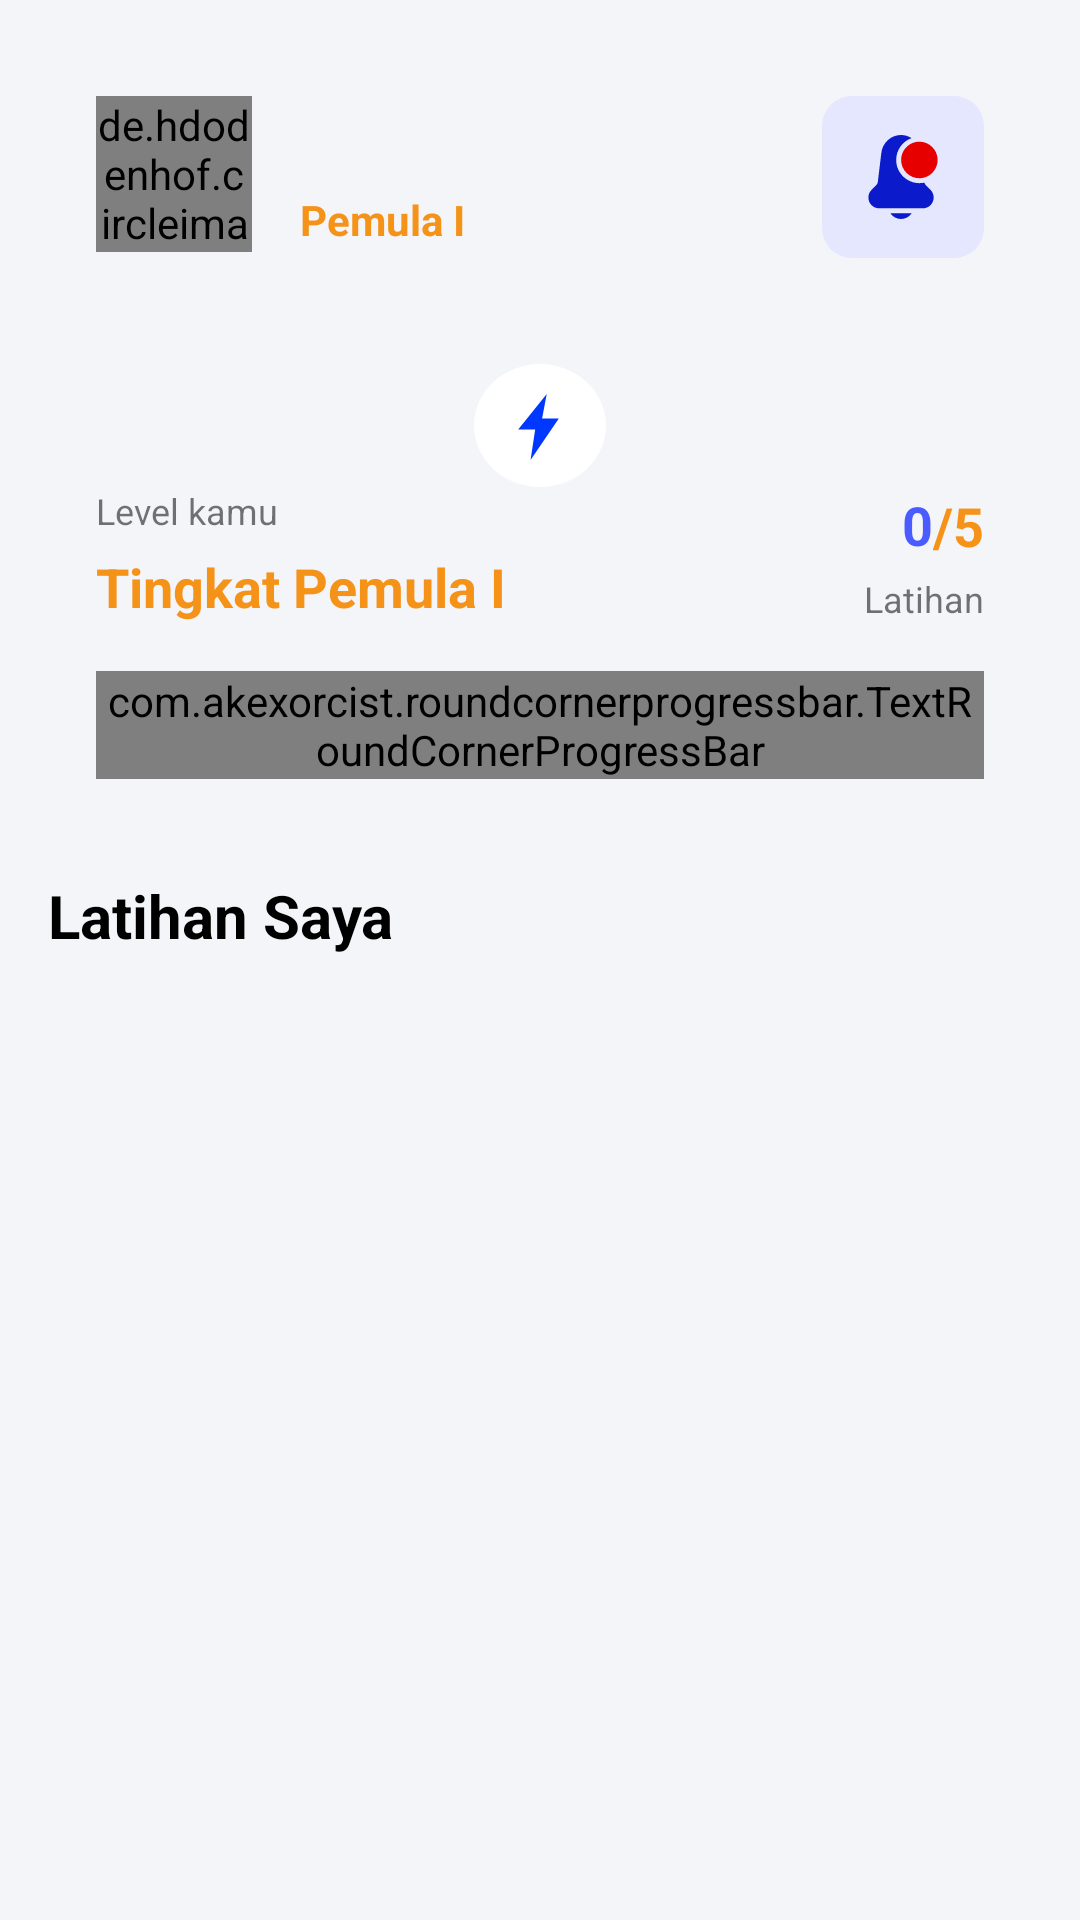

Where to tap for icons on this 1080x1920 app screen, as (x,y):
notif: (903,177)
petir: (540,425)
